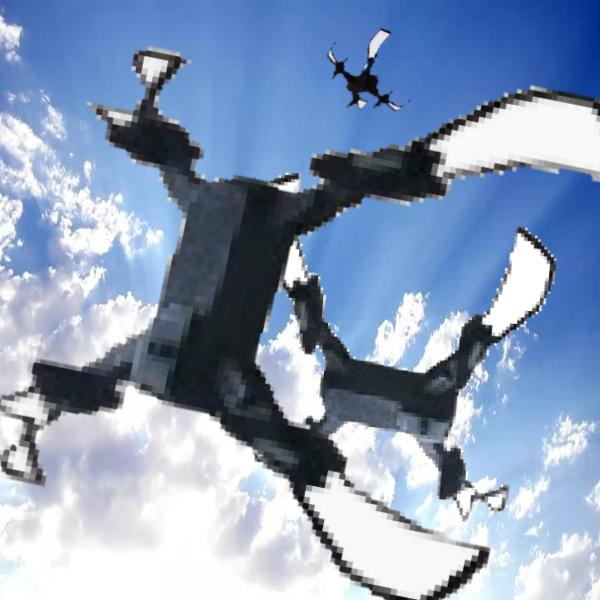drone: (212, 178, 561, 527), (325, 23, 426, 124)
